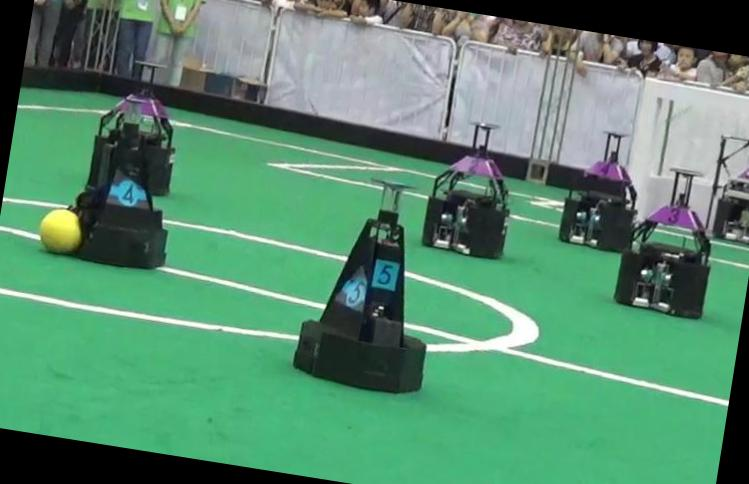ball: (39, 208, 81, 253)
goal: (628, 78, 656, 222)
robot: (293, 179, 426, 392), (613, 168, 710, 317), (75, 121, 167, 268), (421, 121, 508, 258), (89, 62, 174, 194), (558, 132, 637, 251), (705, 135, 749, 242)
